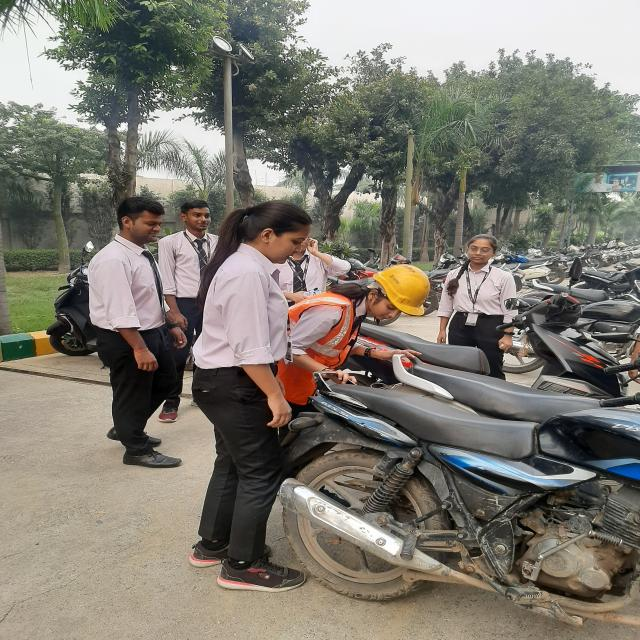safe: (284, 263, 430, 409)
unsafe: (212, 203, 306, 427), (86, 196, 176, 422), (158, 199, 218, 419), (438, 234, 520, 384)
